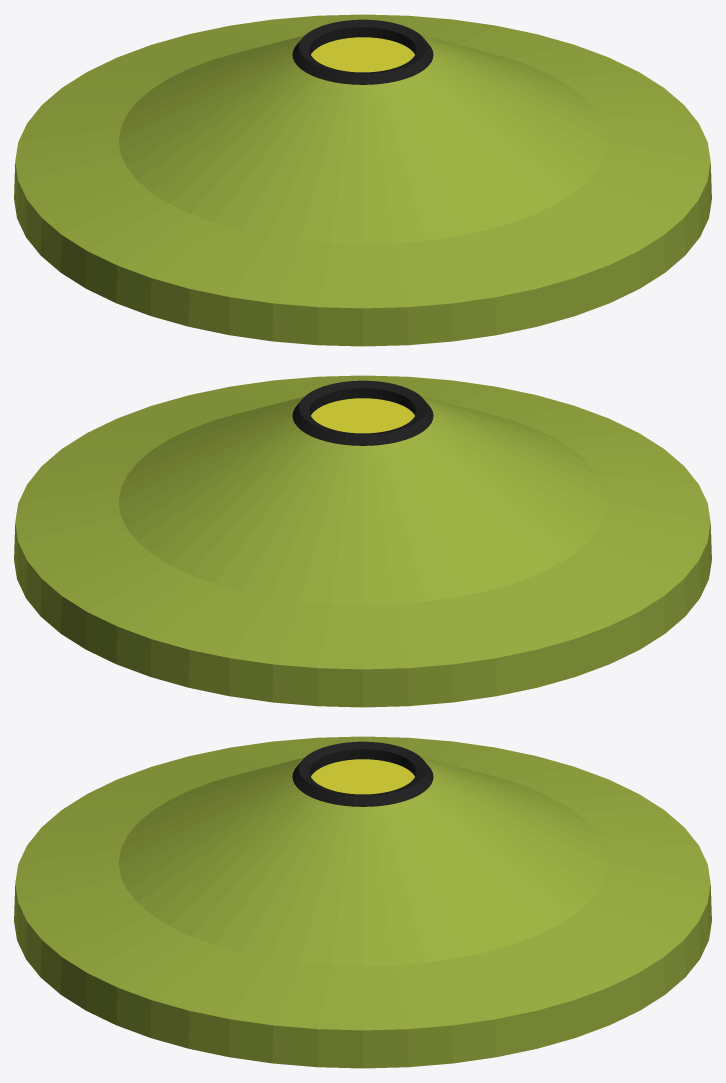
The model's file is sship1.glb.
3 views of the same model, one above another, from view 1: azimuth 30°, elevation 25°; view 2: azimuth 150°, elevation 25°; view 3: azimuth 270°, elevation 25° (orthographic).
Parts seen in each view (by area): view 1: Torus, top, Cylinder.003; view 2: Torus, top, Cylinder.003; view 3: Torus, top, Cylinder.003.
Boxes of the visible parts, x1,y1,x2,y2 form: Torus: (14,14,711,346); top: (292,19,433,84); Cylinder.003: (311,37,414,72); Torus: (14,375,711,707); top: (292,380,433,445); Cylinder.003: (311,398,414,433); Torus: (14,736,711,1068); top: (292,741,433,806); Cylinder.003: (311,759,414,794).
Size of the model in its own units: 4.45 by 1.98 by 4.45.
